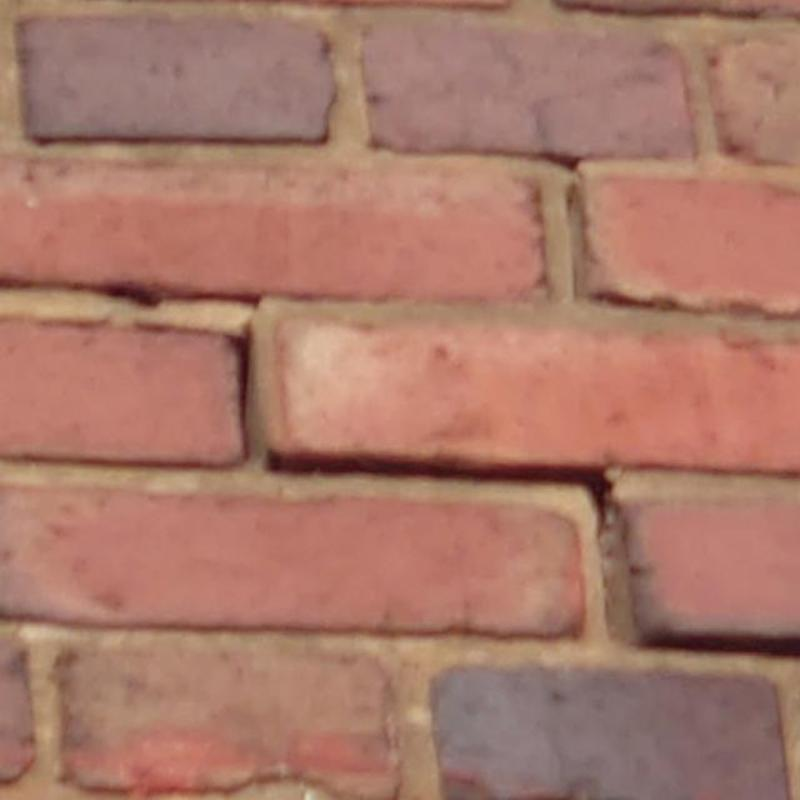pothole: (269, 456, 609, 534), (88, 286, 262, 304), (230, 327, 249, 460)
